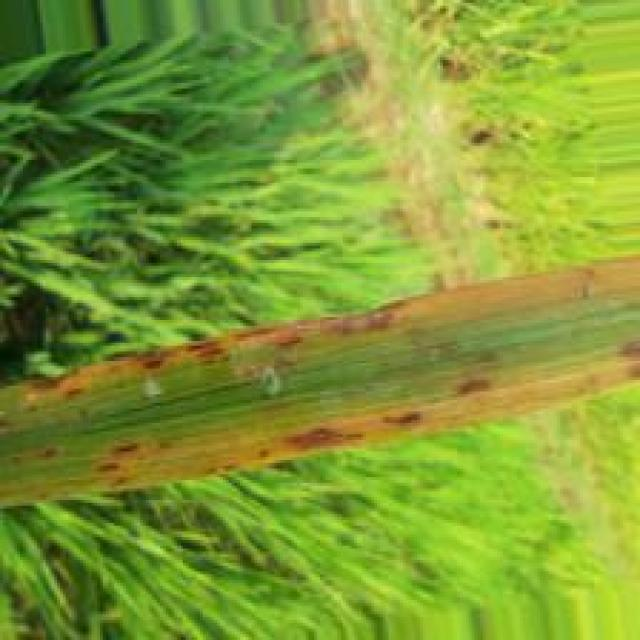Narrow_Brown_Leaf_Spot: (17, 296, 411, 410), (219, 378, 539, 473)
